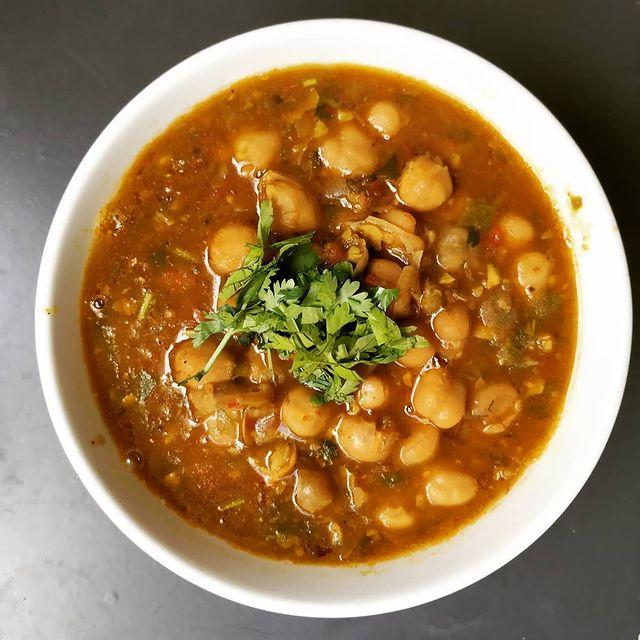Chole: (175, 123, 515, 520)
